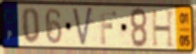0: (20, 6, 42, 46)
6: (44, 7, 63, 46)
8: (129, 7, 150, 50)
F: (98, 9, 117, 46)
H: (150, 9, 176, 49)
V: (71, 6, 95, 49)
